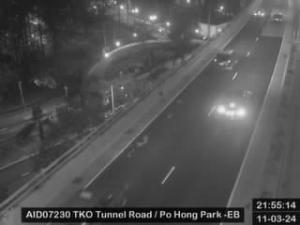vehicle: (216, 92, 258, 123), (214, 50, 240, 72), (272, 14, 284, 22), (255, 9, 265, 15)
